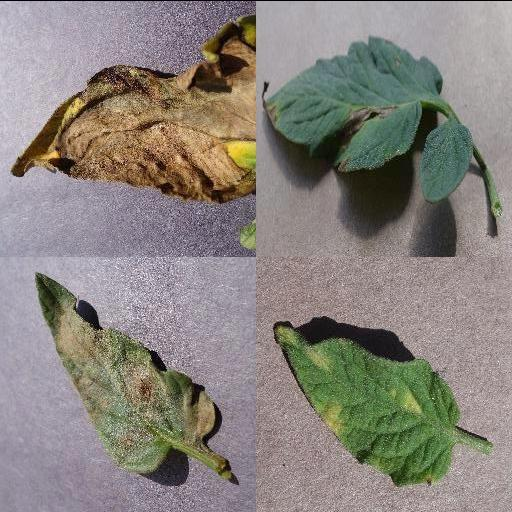Early Blight: (263, 33, 441, 173)
Healthy: (419, 121, 475, 201)
Late Blight: (9, 10, 256, 204), (32, 270, 216, 472)
Leaf Mold: (274, 322, 462, 486)
